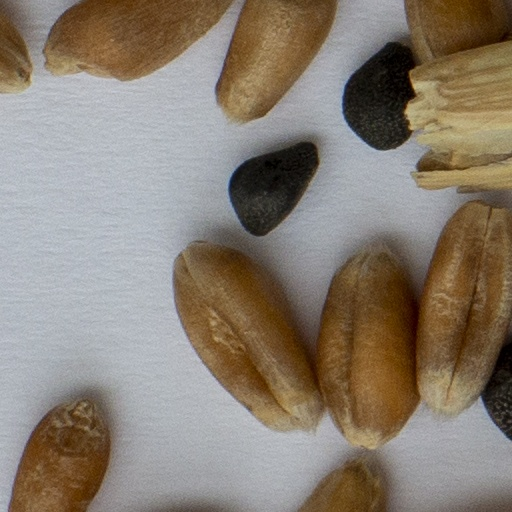Peel-poly: (410, 40, 511, 188)
